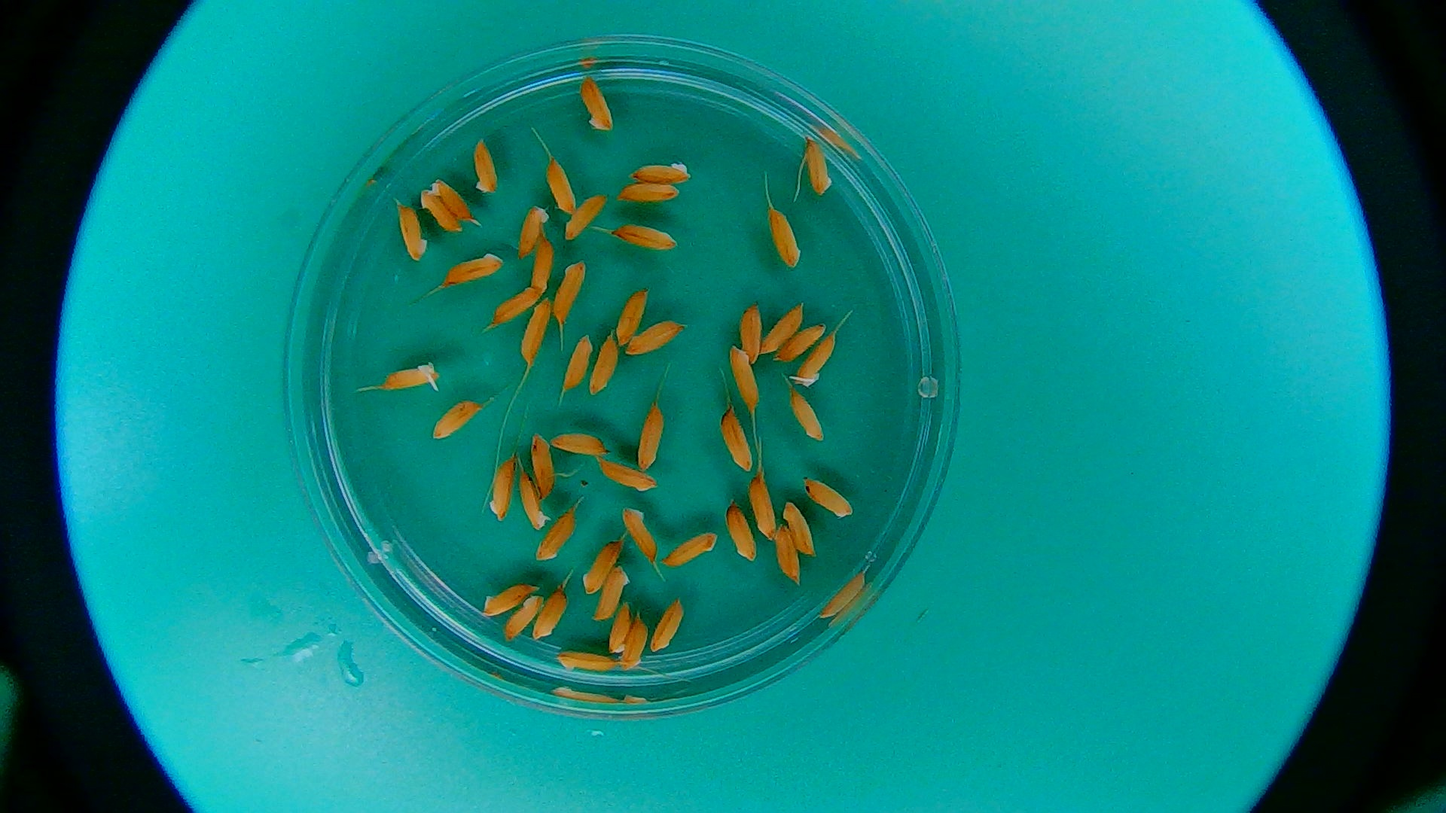no: (596, 452, 663, 493), (612, 282, 654, 347), (717, 406, 757, 473), (623, 319, 693, 356), (764, 209, 805, 271), (761, 300, 804, 358), (552, 257, 589, 324), (535, 507, 580, 561), (561, 193, 610, 242), (773, 319, 827, 363), (805, 474, 856, 520), (728, 341, 761, 411), (647, 595, 686, 654), (575, 75, 615, 132), (520, 297, 552, 368), (787, 390, 828, 445), (493, 285, 543, 330), (621, 504, 659, 563), (582, 539, 622, 595), (723, 501, 759, 563), (593, 565, 632, 622), (664, 530, 721, 569), (636, 403, 667, 474), (418, 187, 462, 236), (395, 204, 431, 263), (612, 219, 678, 251), (486, 457, 517, 525), (432, 400, 482, 442), (749, 470, 778, 542), (444, 251, 505, 285), (545, 155, 579, 216), (625, 155, 691, 186), (516, 203, 551, 261), (782, 500, 816, 559), (484, 580, 538, 617), (589, 334, 618, 401), (772, 522, 802, 586), (429, 177, 472, 221), (469, 136, 501, 195), (529, 431, 557, 498), (505, 592, 543, 641), (738, 302, 766, 368), (563, 333, 593, 392), (534, 587, 568, 639), (807, 139, 835, 199), (621, 615, 649, 674), (556, 647, 616, 674), (529, 236, 554, 296), (605, 600, 631, 656), (616, 181, 681, 203)
yes: (789, 335, 835, 388), (518, 470, 551, 531), (383, 364, 445, 392)
